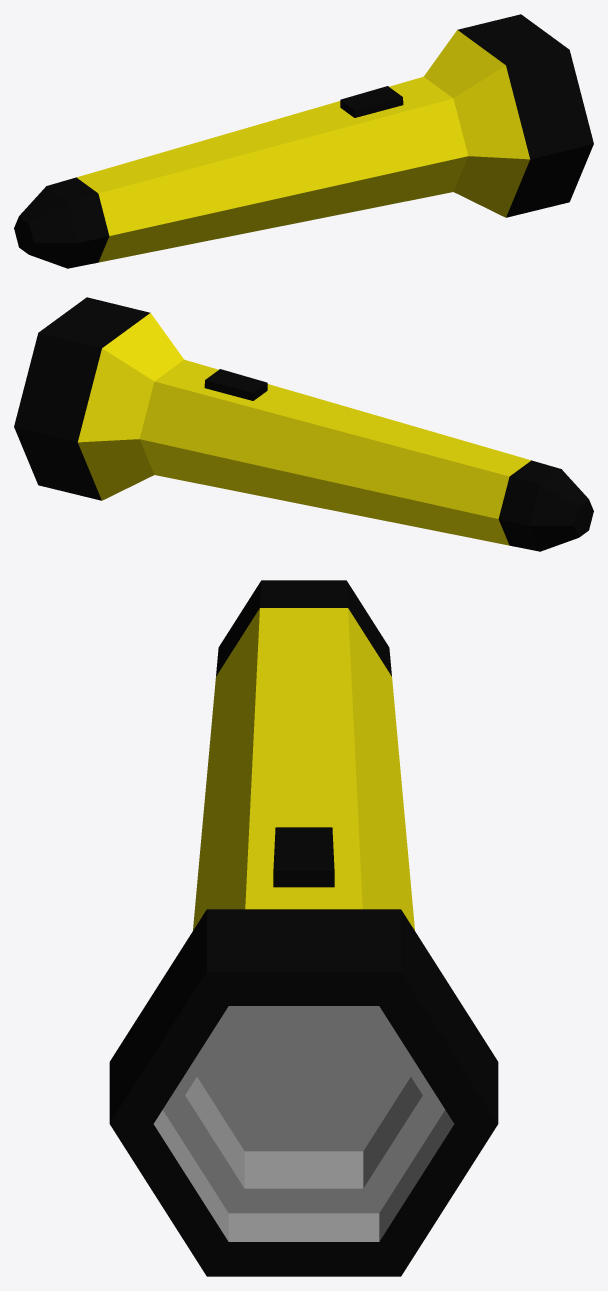
Rendered from flashlight.glb.
3 views of the same model, one above another, from view 1: azimuth 30°, elevation 25°; view 2: azimuth 150°, elevation 25°; view 3: azimuth 270°, elevation 25° (orthographic). The views are drawn at different scales.
Parts seen in each view (by area): view 1: Cylinder; view 2: Cylinder; view 3: Cylinder.
Boxes of the visible parts, <box> form: Cylinder: <box>14,14,593,268</box>; Cylinder: <box>14,297,593,551</box>; Cylinder: <box>109,580,498,1276</box>.
Size of the model in its own units: 16.34 by 4.57 by 5.27.
